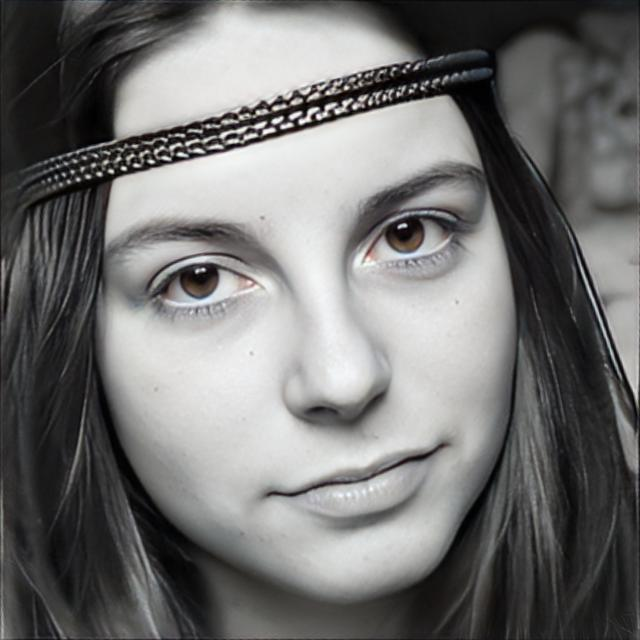content: (98, 0, 520, 608)
